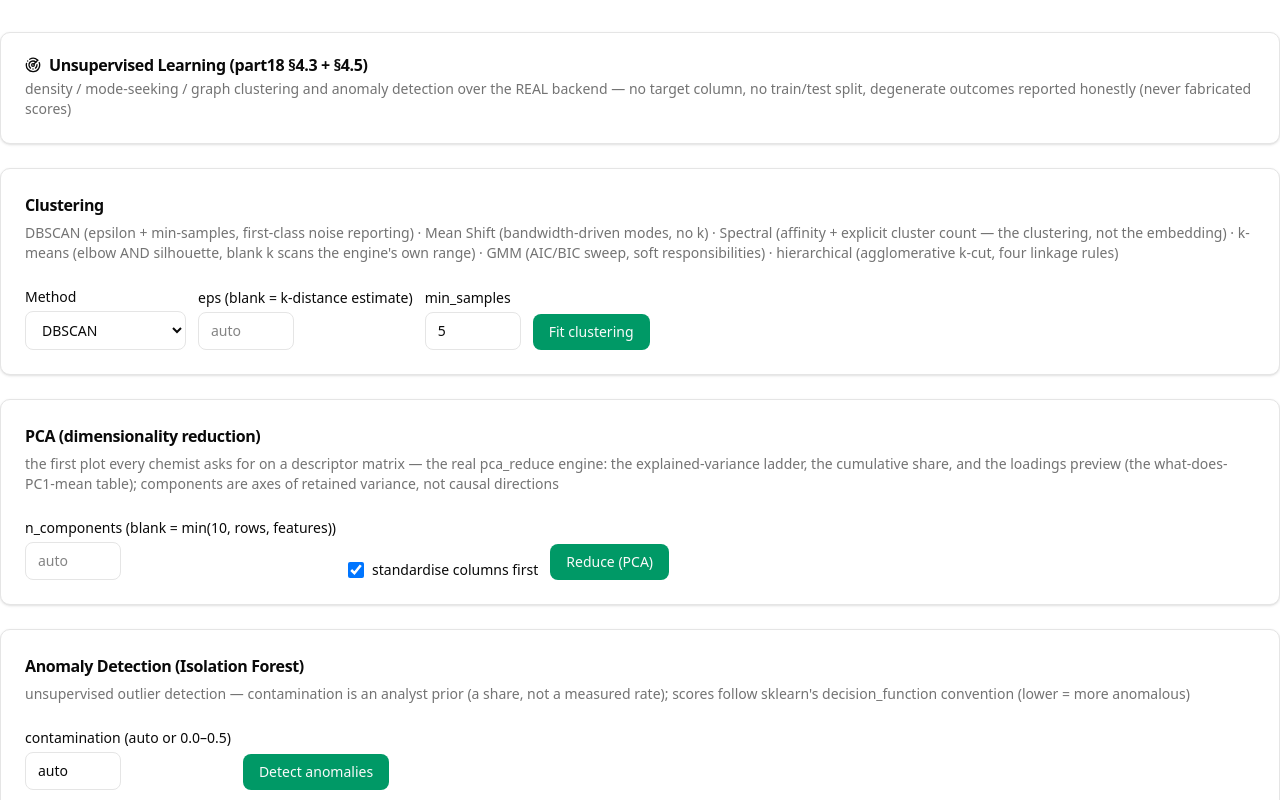
Test: the ML-4 unsupervised families (kmeans / gmm / hierarchical + the pca sibling) › POSTs gmm with the covariance/criterion selects and renders the AIC/BIC table
Select "Gaussian Mixture" in the dropdown named "the clustering method" at (106, 330), box [25, 311, 186, 350]
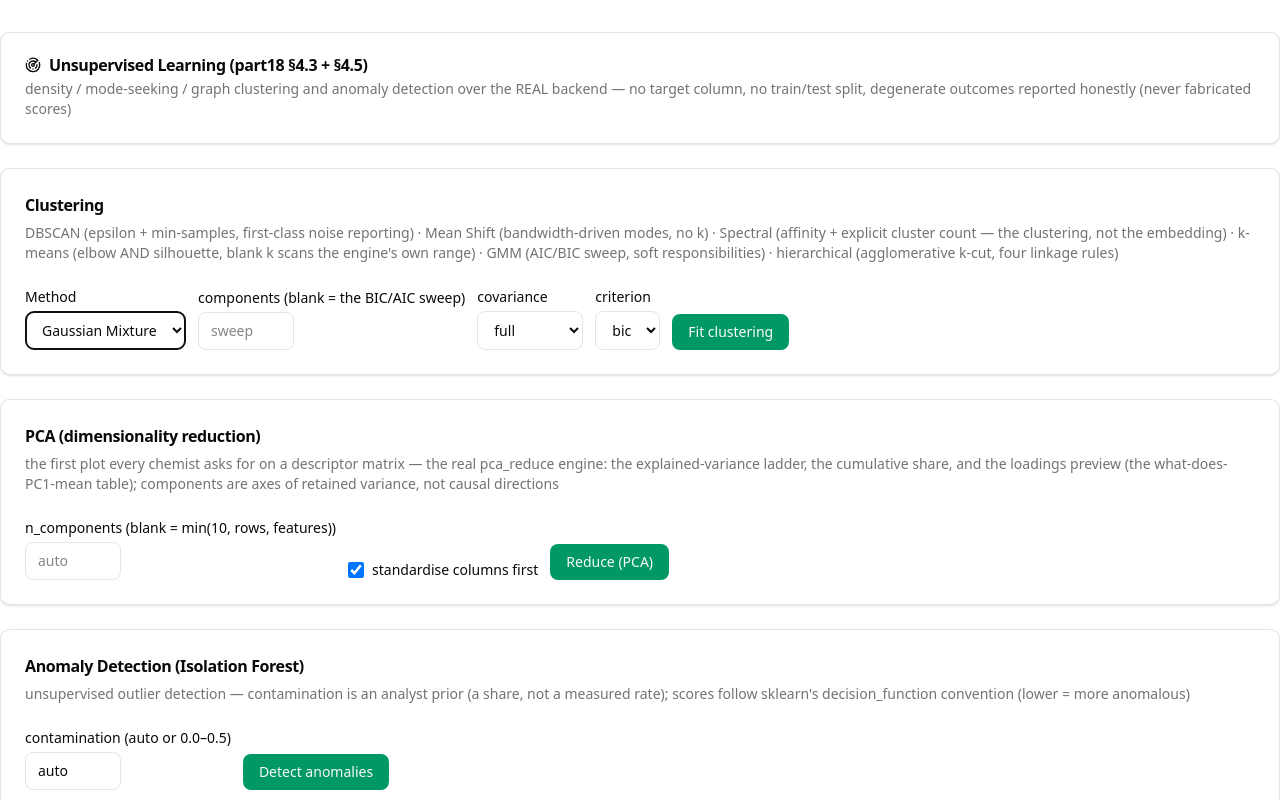
Click the button "Fit clustering".
click(731, 332)  # box [672, 314, 789, 350]
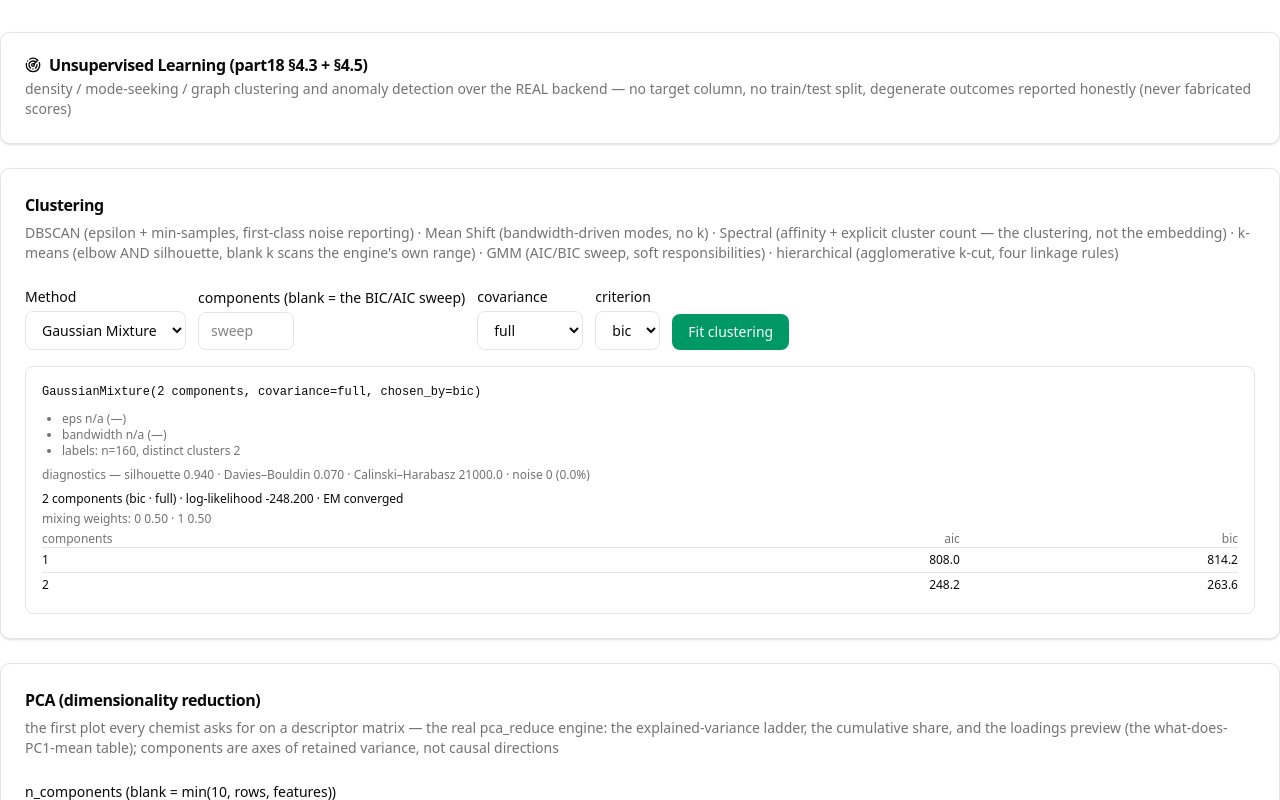
Expected: the text "2 components (bic · full)" is shown, [42, 490, 404, 506]
Expected: the text "EM converged" is shown, [323, 490, 404, 506]
Expected: the text "mixing weights: 0 0.50 · 1 0.50" is shown, [42, 510, 211, 526]
